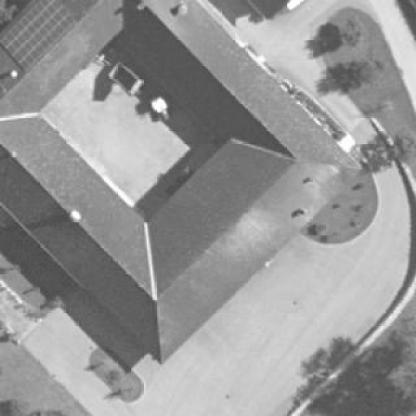solar-pv-panel: (0, 0, 76, 72)
